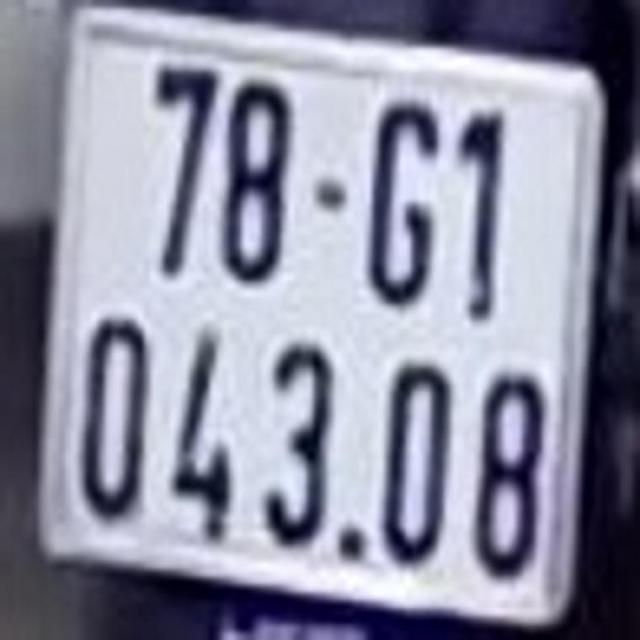0: (373, 352, 448, 568), (80, 308, 148, 518)
1: (454, 105, 500, 322)
3: (272, 346, 331, 545)
4: (165, 320, 230, 541)
7: (144, 66, 219, 284)
8: (468, 372, 544, 570), (224, 78, 283, 290)
G: (368, 90, 442, 309)
